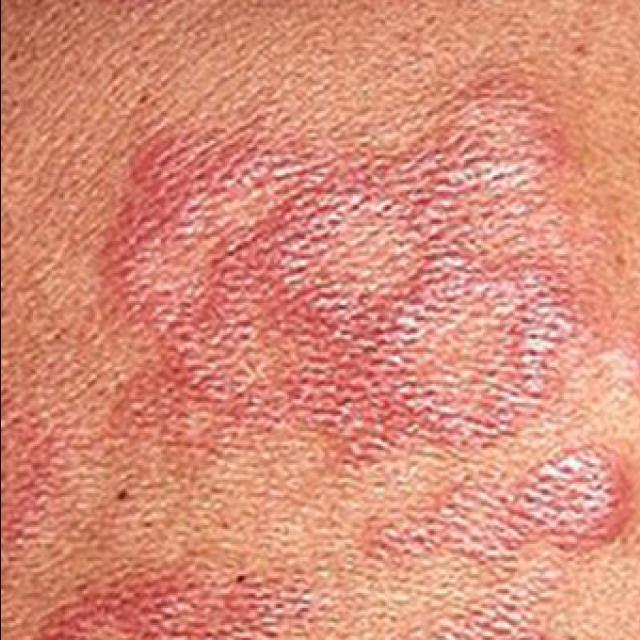Leprosy: (111, 70, 584, 452), (371, 452, 640, 640), (23, 552, 336, 640)
